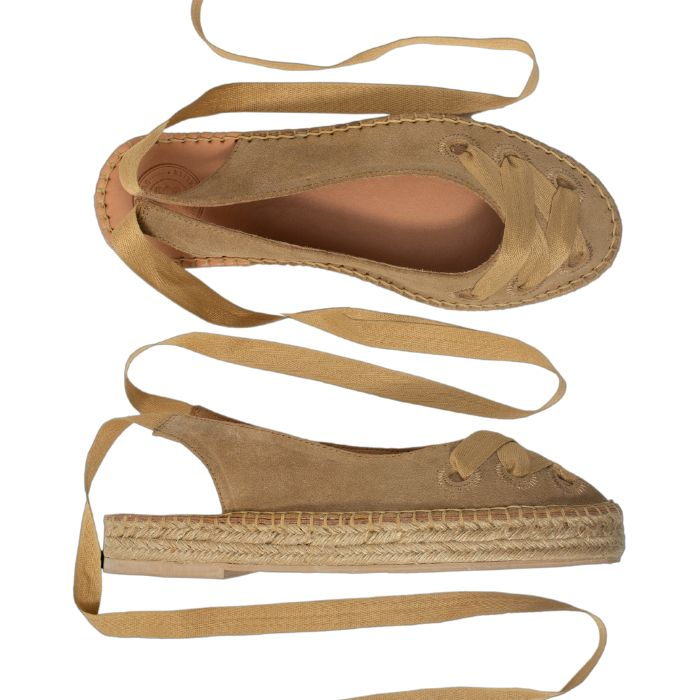gamuza: (144, 115, 622, 512)
